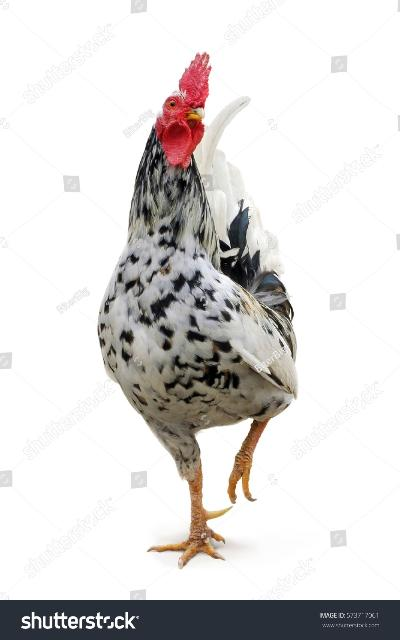Chicken: (96, 52, 298, 570)
